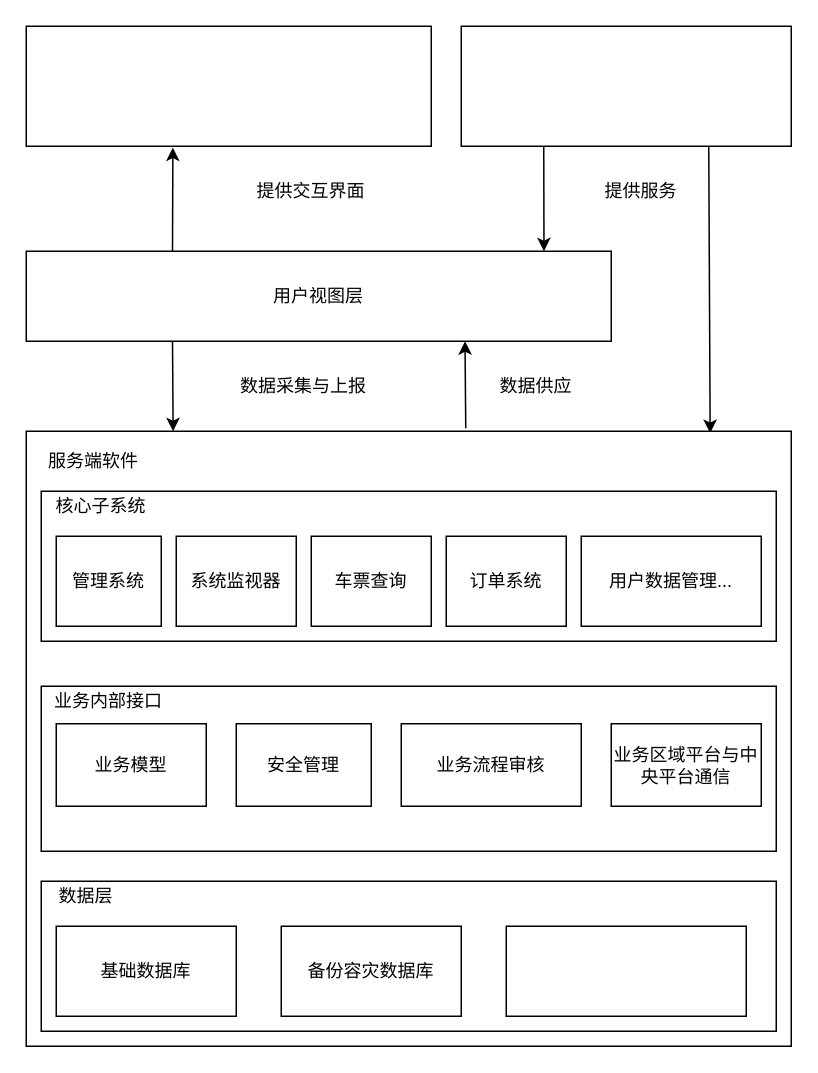
The diagram is 818 pixels wide and 1073 high, and some of its shapes have lost their labels. The shapes that lost their labels are listed below. From the top down, each one's centre as x and y in pixels, then its label:
the point at 228,85: 用户终端（Web浏览器，微信客户端等）
the point at 625,85: 第三方服务（CDN，DDOS防护等）
the point at 625,970: 系统日志数据
